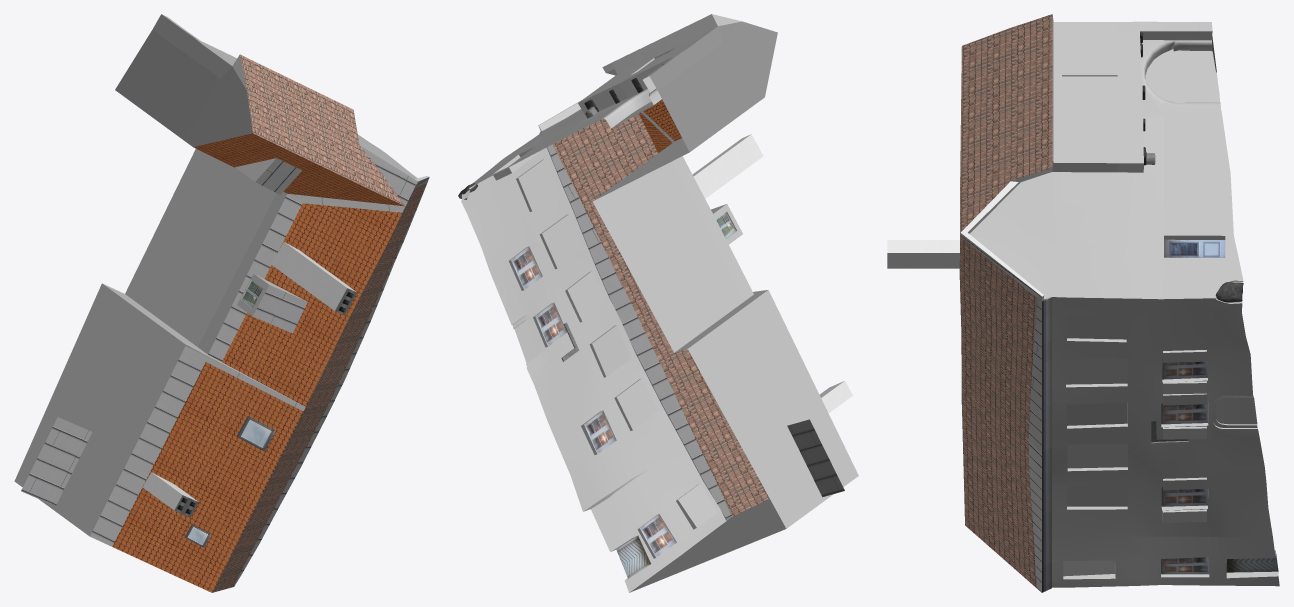
File: Sulevimagi_5.obj
3 views of the same model, side by side, from view 1: azimuth 30°, elevation 25°; view 2: azimuth 150°, elevation 25°; view 3: azimuth 270°, elevation 25° (orthographic). The views are drawn at different scales.
Visible parts, largest first — view 1: Sulevimagi_5; view 2: Sulevimagi_5; view 3: Sulevimagi_5.
Part boxes in pixels (x1=…): Sulevimagi_5: x1=14, y1=14, x2=429, y2=592; Sulevimagi_5: x1=458, y1=14, x2=858, y2=592; Sulevimagi_5: x1=887, y1=14, x2=1279, y2=592.
Size of the model in its own units: 15.92 by 22.02 by 13.39.
